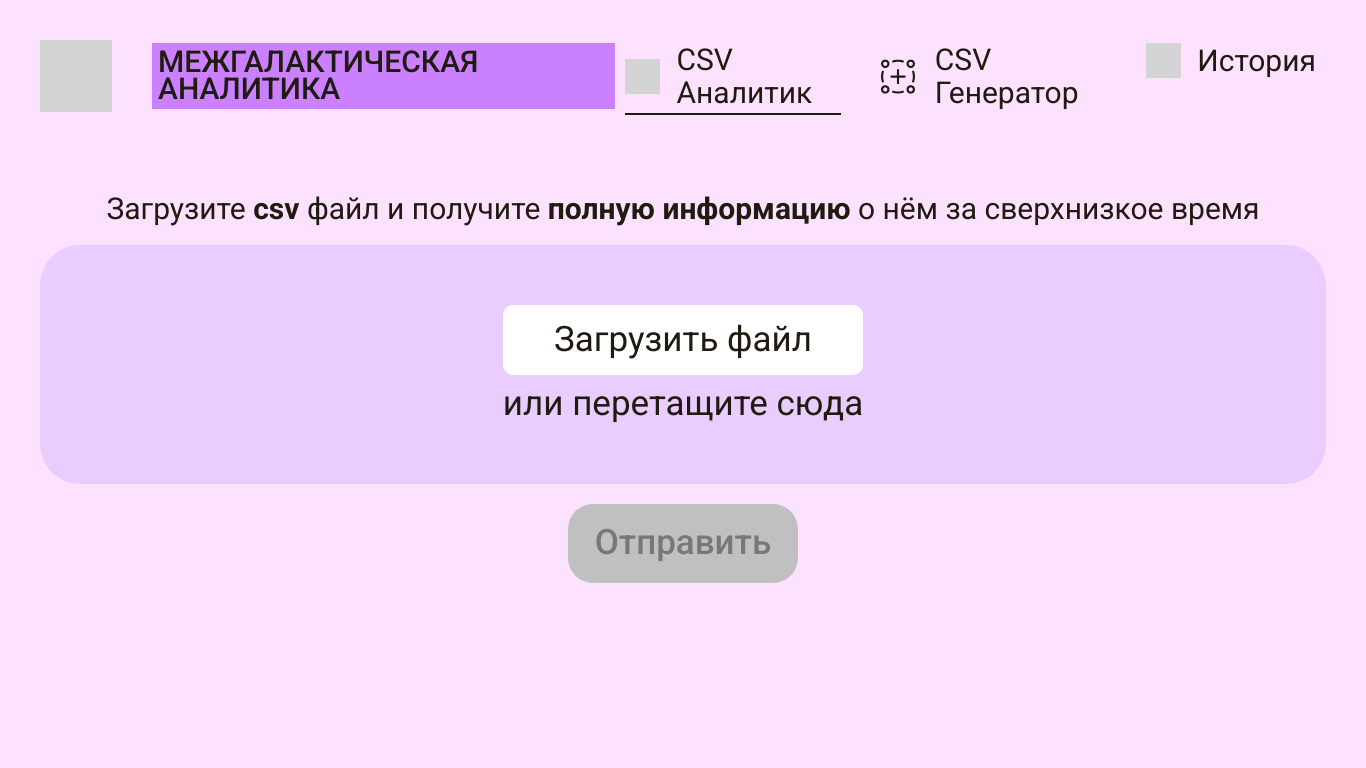
Test case: Тестирование навигации › при нажатии на CSV Генератор открывается странциа генерации
This screenshot has width=1366, height=768.
Click the link with test id "generator-link" at (994, 76), box x1=881 y1=43 x2=1106 y2=109
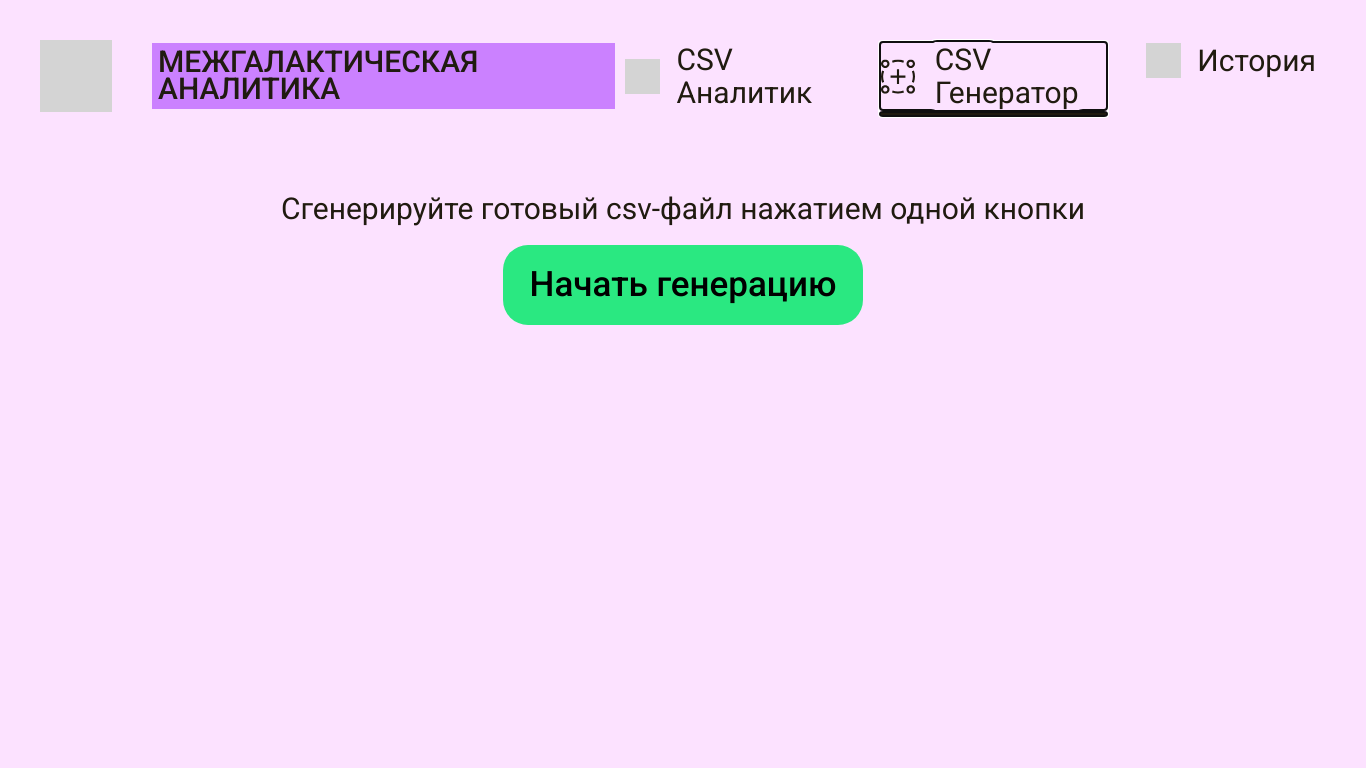
Expected: the element with test id "generator-page" is shown, x1=281 y1=191 x2=1085 y2=325
